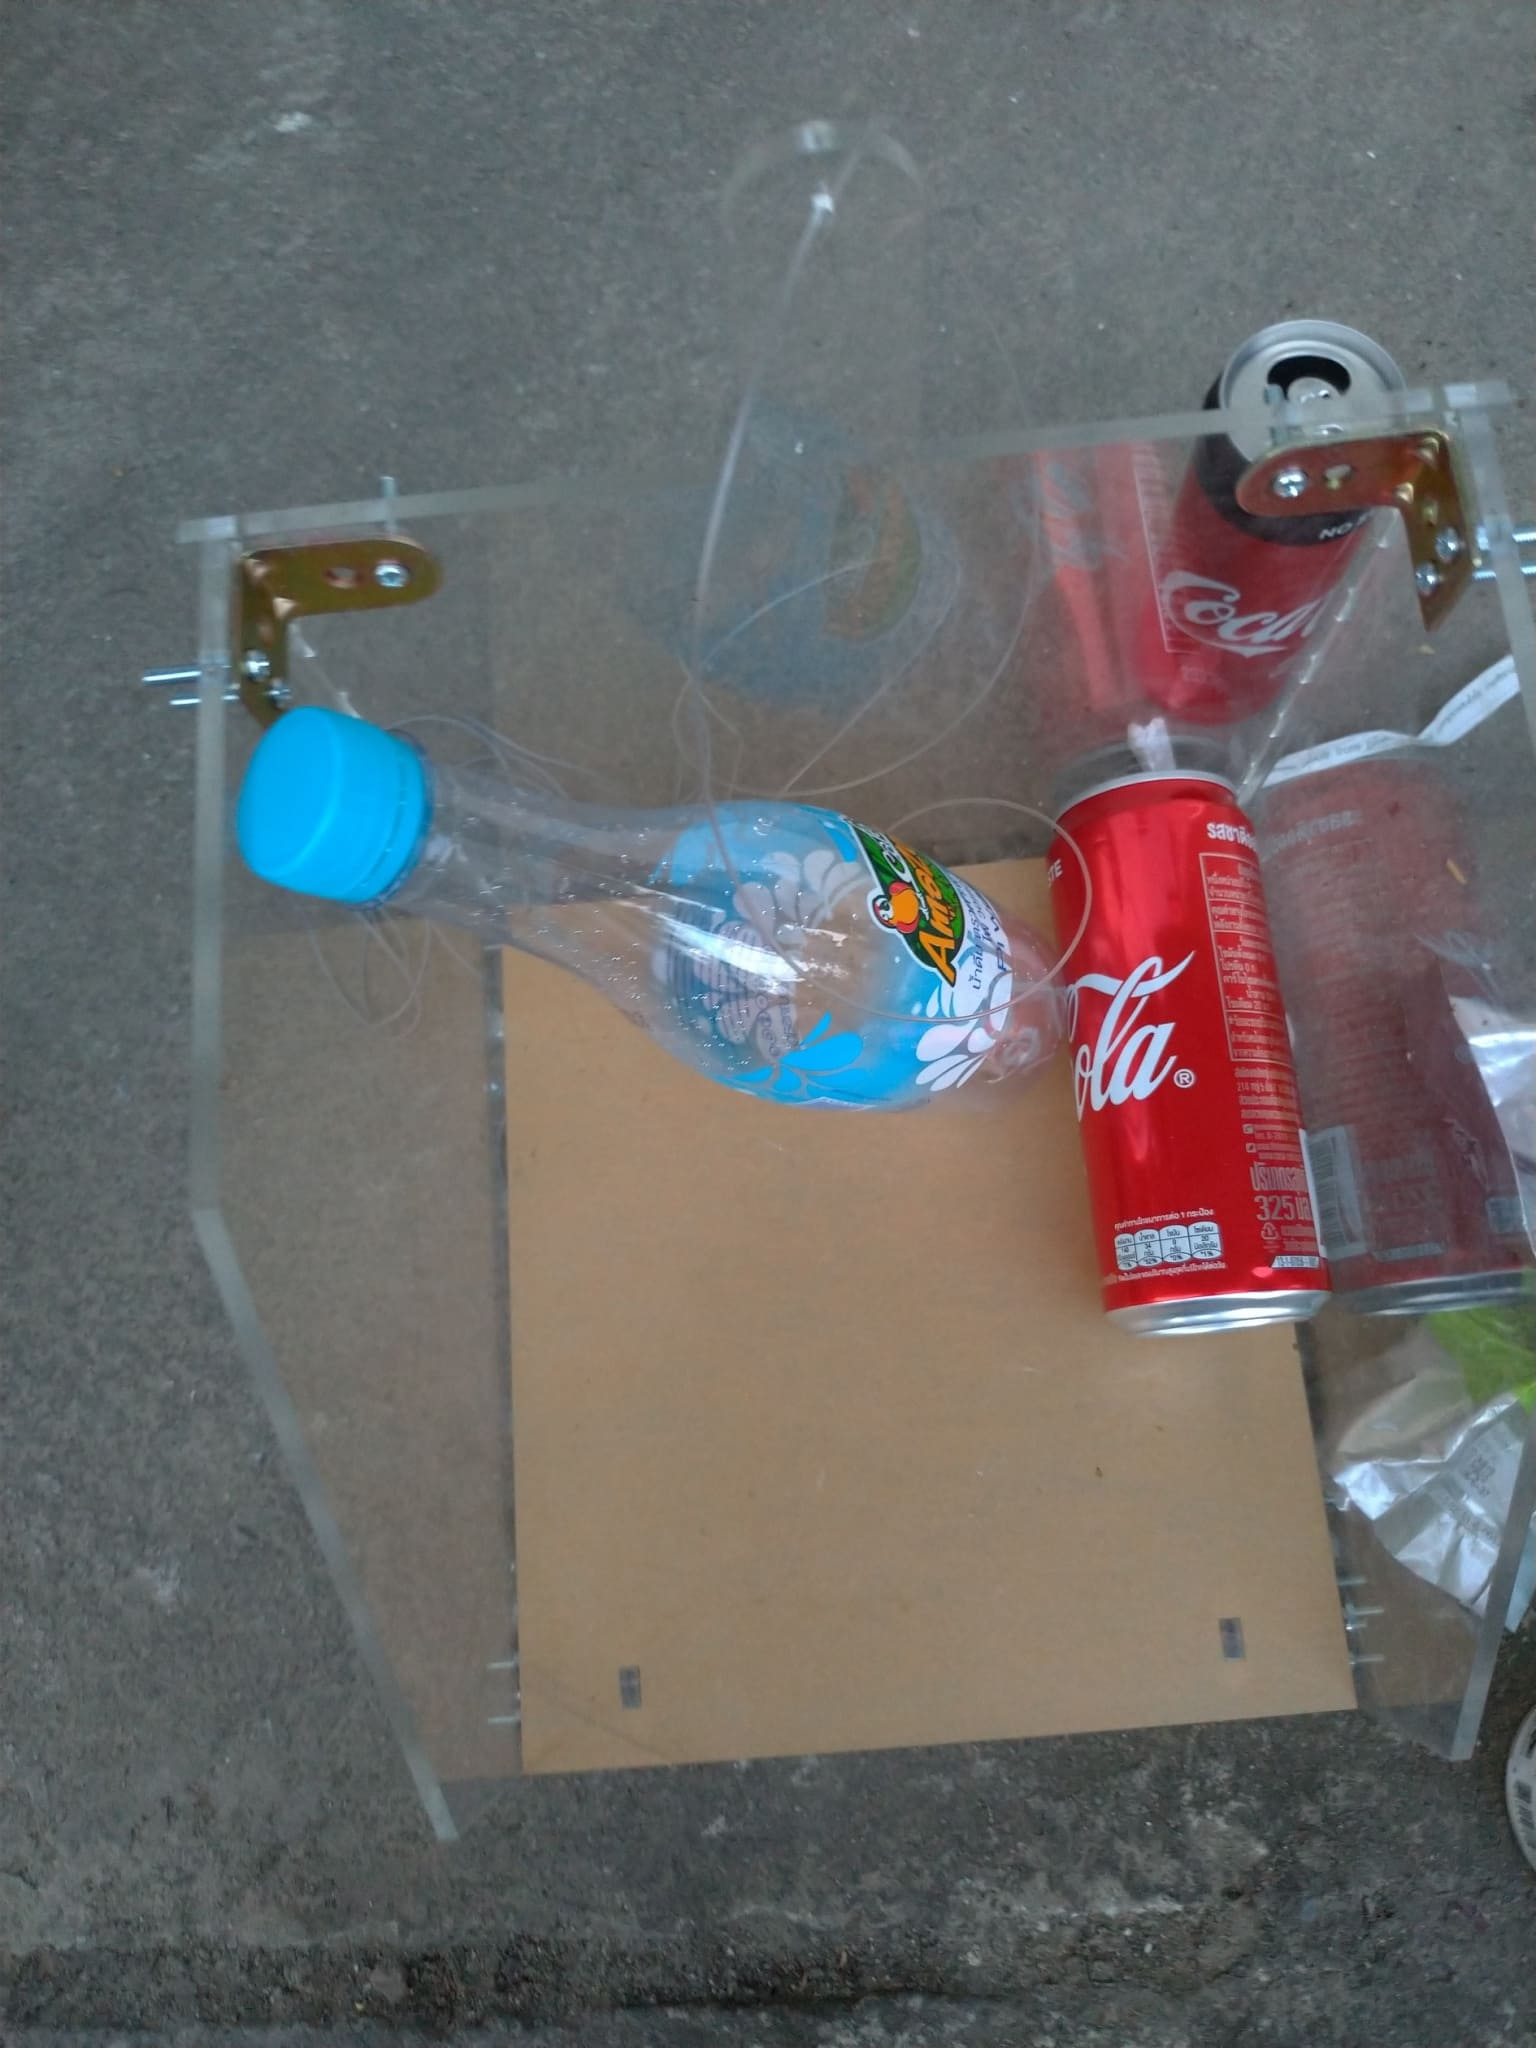AlCan: (1050, 764, 1329, 1345), (1141, 314, 1407, 731)
Others: (1333, 1308, 1536, 1603)
PlasticBottle: (232, 711, 1060, 1130)
